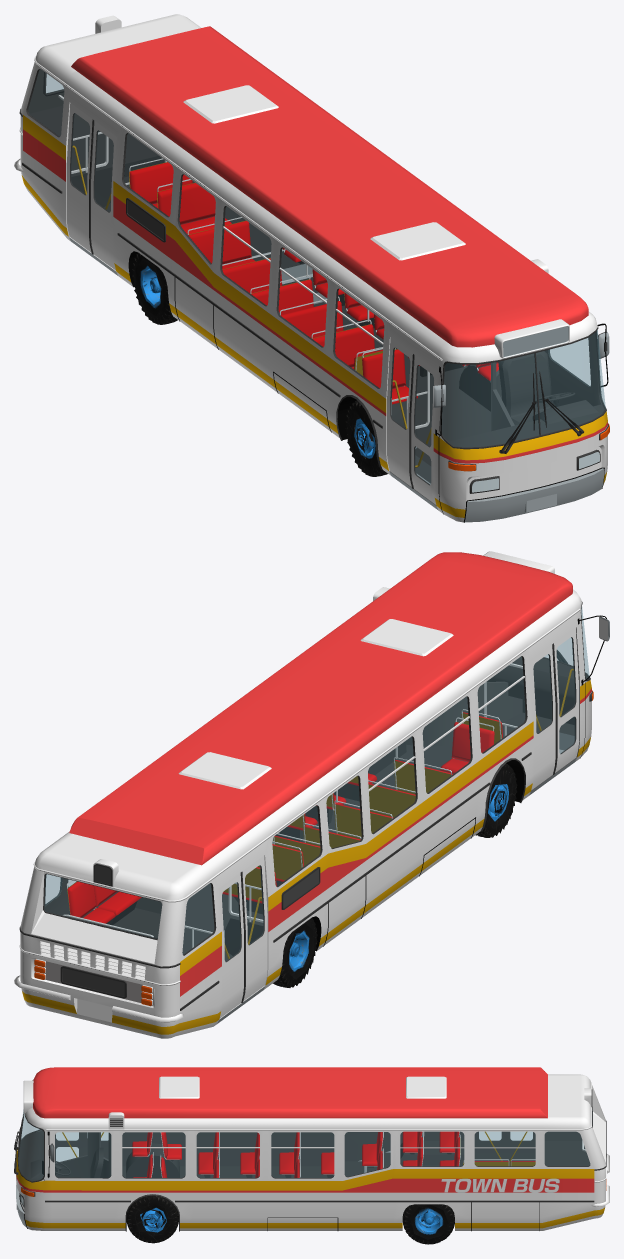
Rendered from traffic_bus_city.glb.
3 views of the same model, one above another, from view 1: azimuth 30°, elevation 25°; view 2: azimuth 150°, elevation 25°; view 3: azimuth 270°, elevation 25° (orthographic). The views are drawn at different scales.
Parts seen in each view (by area): view 1: body, wheel_rr_mesh, wheel_fr_mesh; view 2: body, wheel_rr_mesh, wheel_fr_mesh; view 3: body, wheel_fl_mesh, wheel_rl_mesh.
Part boxes in pixels (x1,y1,x2,y2): body: [14, 14, 609, 522]; wheel_rr_mesh: [132, 253, 177, 324]; wheel_fr_mesh: [345, 400, 387, 476]; body: [14, 551, 609, 1038]; wheel_rr_mesh: [273, 917, 317, 987]; wheel_fr_mesh: [475, 763, 517, 837]; body: [14, 1067, 609, 1231]; wheel_fl_mesh: [126, 1195, 178, 1243]; wheel_rl_mesh: [402, 1204, 454, 1244].
Bounding box in the file's own units: 2.8 × 2.84 × 11.5.
Materials: 23 (3 with a texture image).
